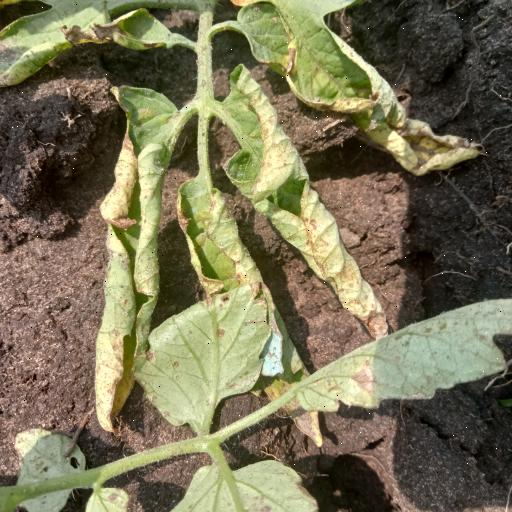Tomato_Brown_Spots: (220, 71, 402, 338), (236, 0, 490, 181), (88, 79, 184, 440), (279, 295, 512, 430), (0, 0, 189, 89)
